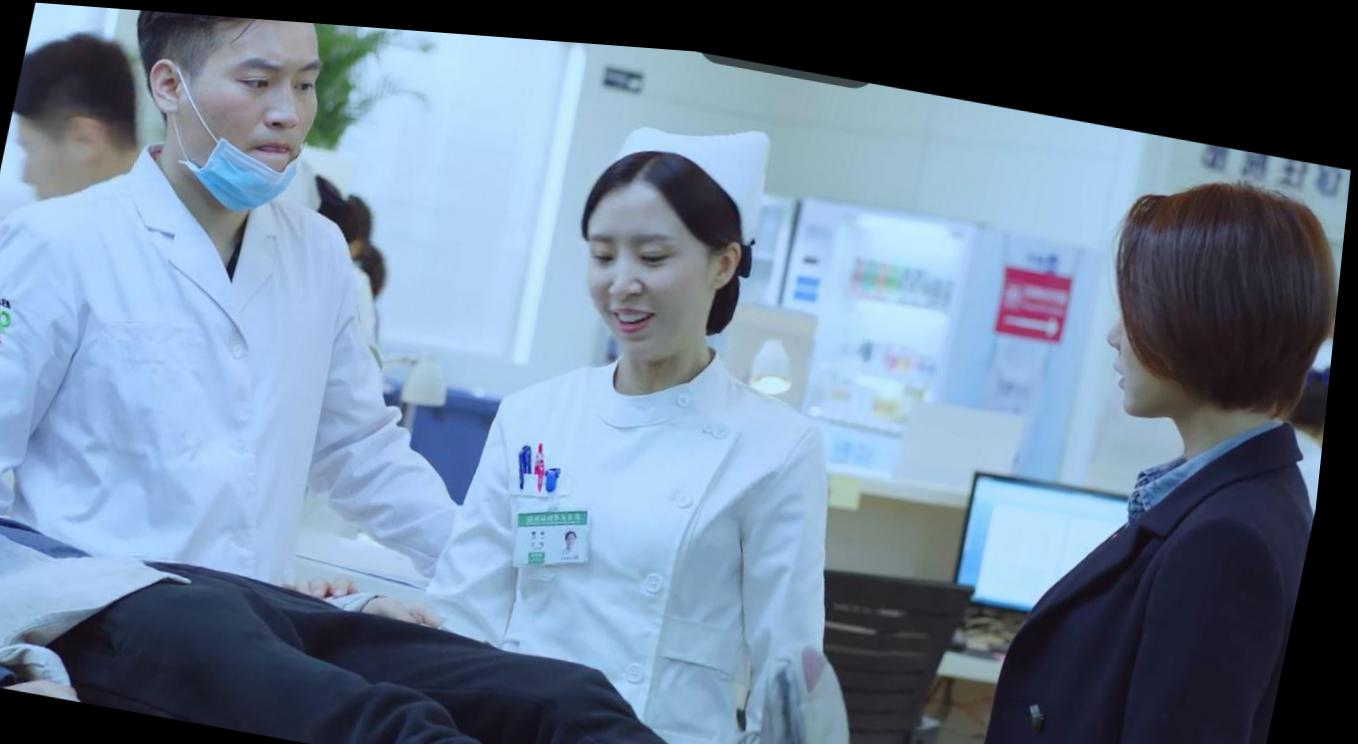NONE: (565, 197, 710, 364), (1095, 250, 1195, 406)
WRONG: (189, 13, 336, 208)
